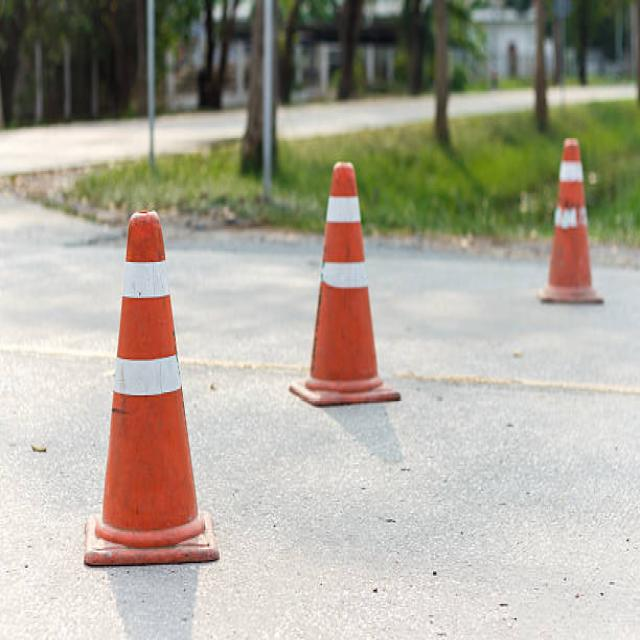Traffic Cone: (70, 181, 236, 586), (277, 137, 413, 430), (532, 118, 614, 333)
